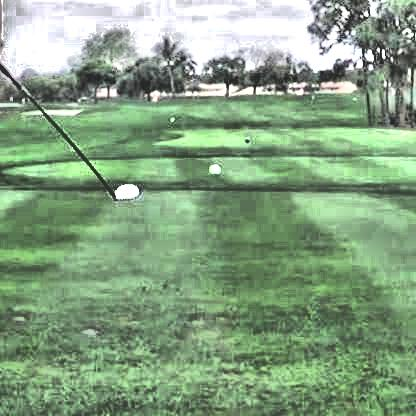golfball: (206, 161, 220, 175)
